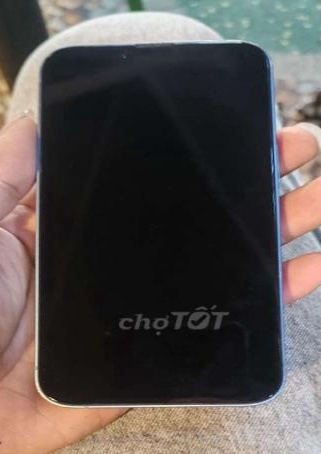scratch: (40, 390, 60, 405)
